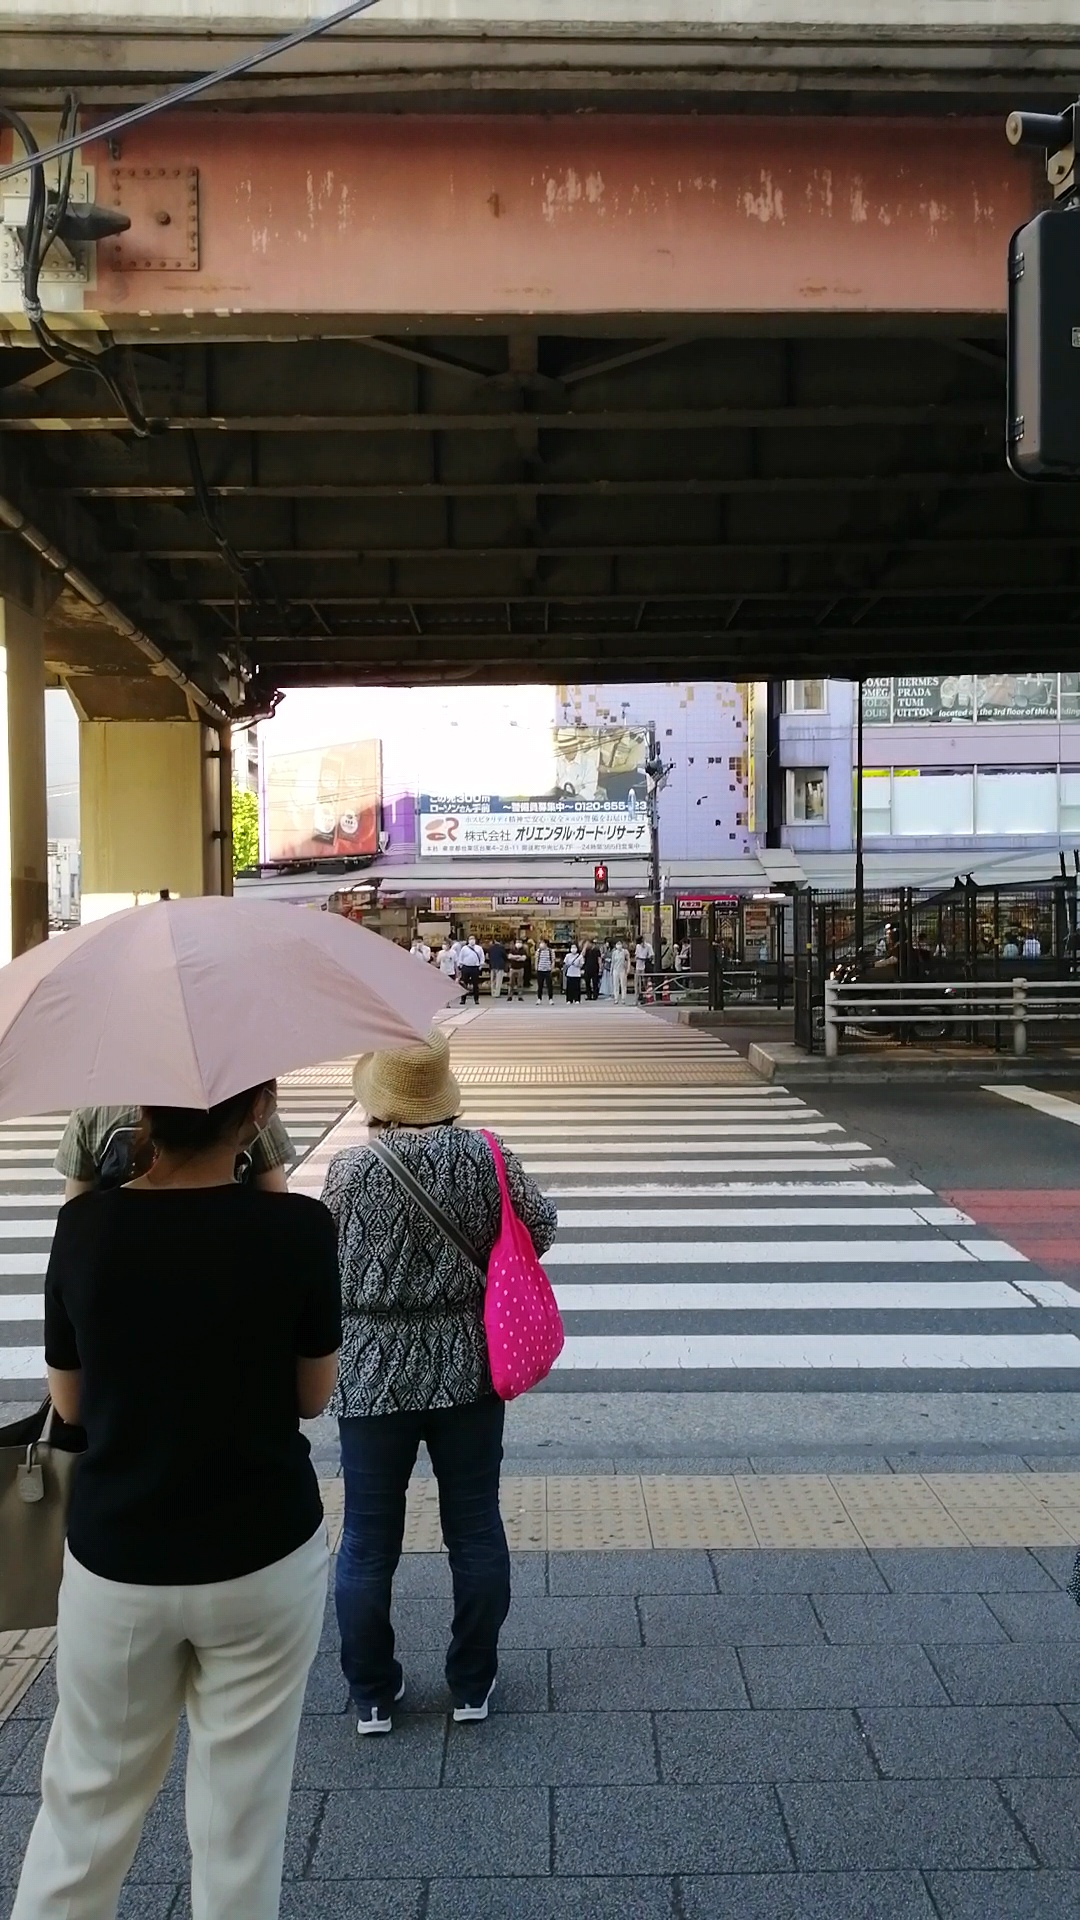red: (593, 862, 607, 895)
